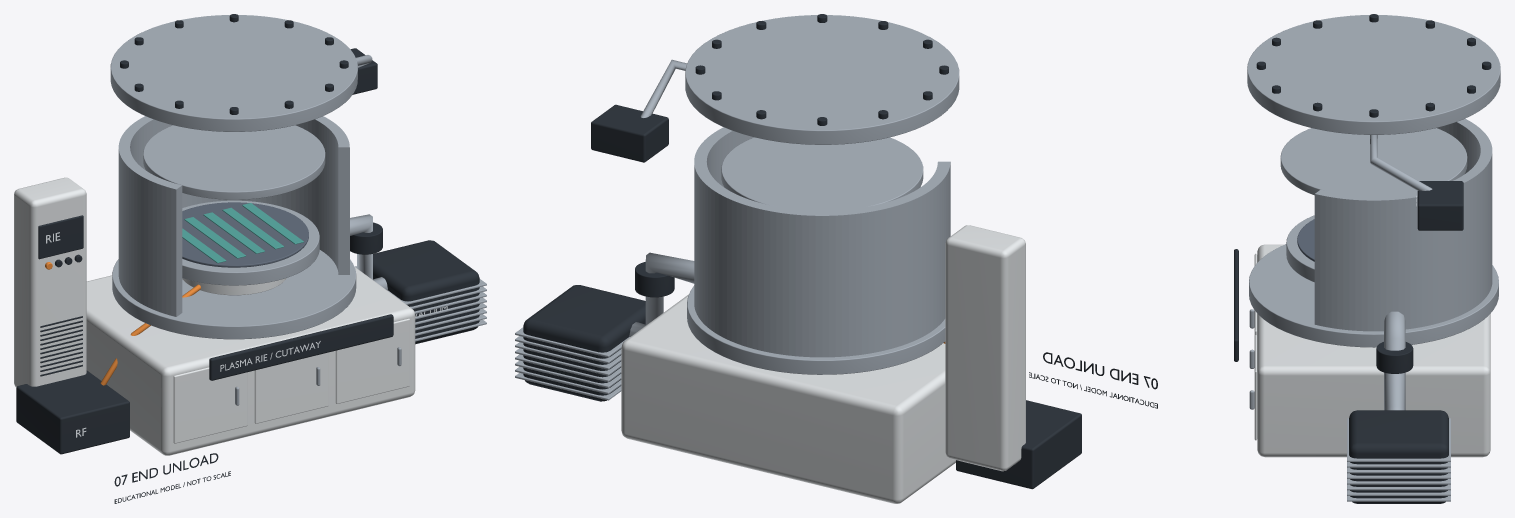
Rendered from rie_07_end_unload.glb.
3 renders of one model, left to right at view 1: azimuth 30°, elevation 25°; view 2: azimuth 150°, elevation 25°; view 3: azimuth 270°, elevation 25°, orthographic. The views are drawn at different scales.
Parts seen in each view (by area): view 1: Lid.006, Equipment cabinet.006, Chamber cutaway wall.006, Control console.006, Grounded upper electrode.006, Bottom chamber flange.006, RF generator.006, Vacuum pump.006, Wafer.006, Service access panel.018, Caption panel.006, Service access panel.020 (+11 smaller); view 2: Chamber cutaway wall.006, Equipment cabinet.006, Lid.006, Control console.006, Grounded upper electrode.006, Vacuum pump.006, Bottom chamber flange.006, RF generator.006, Mass flow module.006, Exhaust line.006, Exhaust valve.006; view 3: Lid.006, Chamber cutaway wall.006, Equipment cabinet.006, Grounded upper electrode.006, Bottom chamber flange.006, Vacuum pump.006, Mass flow module.006, Exhaust line.006, Exhaust valve.006, RF powered lower electrode.006, Gas supply pipe.006, Pump cooling fin.055 (+10 smaller).
Part boxes in pixels (x1=…): Lid.006: x1=110, y1=15, x2=357, y2=131; Equipment cabinet.006: x1=86, y1=267, x2=415, y2=455; Chamber cutaway wall.006: x1=118, y1=116, x2=349, y2=316; Control console.006: x1=14, y1=177, x2=86, y2=387; Grounded upper electrode.006: x1=143, y1=125, x2=325, y2=199; Bottom chamber flange.006: x1=112, y1=250, x2=356, y2=339; RF generator.006: x1=16, y1=370, x2=129, y2=454; Vacuum pump.006: x1=373, y1=240, x2=479, y2=344; Wafer.006: x1=182, y1=202, x2=308, y2=267; Service access panel.018: x1=173, y1=367, x2=247, y2=443; Caption panel.006: x1=209, y1=314, x2=393, y2=380; Service access panel.020: x1=335, y1=318, x2=409, y2=403; Chamber cutaway wall.006: x1=694, y1=127, x2=950, y2=357; Equipment cabinet.006: x1=621, y1=294, x2=955, y2=503; Lid.006: x1=685, y1=15, x2=959, y2=144; Control console.006: x1=945, y1=225, x2=1025, y2=471; Grounded upper electrode.006: x1=721, y1=137, x2=923, y2=210; Vacuum pump.006: x1=523, y1=285, x2=645, y2=401; Bottom chamber flange.006: x1=687, y1=285, x2=945, y2=374; RF generator.006: x1=956, y1=400, x2=1081, y2=489; Mass flow module.006: x1=591, y1=104, x2=668, y2=162; Exhaust line.006: x1=629, y1=252, x2=694, y2=336; Exhaust valve.006: x1=635, y1=262, x2=674, y2=297; Lid.006: x1=1247, y1=15, x2=1500, y2=134; Chamber cutaway wall.006: x1=1314, y1=118, x2=1492, y2=331; Equipment cabinet.006: x1=1257, y1=244, x2=1490, y2=457; Grounded upper electrode.006: x1=1280, y1=128, x2=1467, y2=195; Bottom chamber flange.006: x1=1249, y1=244, x2=1498, y2=347; Vacuum pump.006: x1=1349, y1=410, x2=1448, y2=503; Mass flow module.006: x1=1417, y1=181, x2=1463, y2=230; Exhaust line.006: x1=1384, y1=311, x2=1405, y2=410; Exhaust valve.006: x1=1376, y1=342, x2=1413, y2=373; RF powered lower electrode.006: x1=1286, y1=215, x2=1314, y2=282; Gas supply pipe.006: x1=1370, y1=135, x2=1432, y2=190; Pump cooling fin.055: x1=1347, y1=418, x2=1450, y2=461.
Size of the model in its own units: 6.39 by 4.4 by 3.77.
